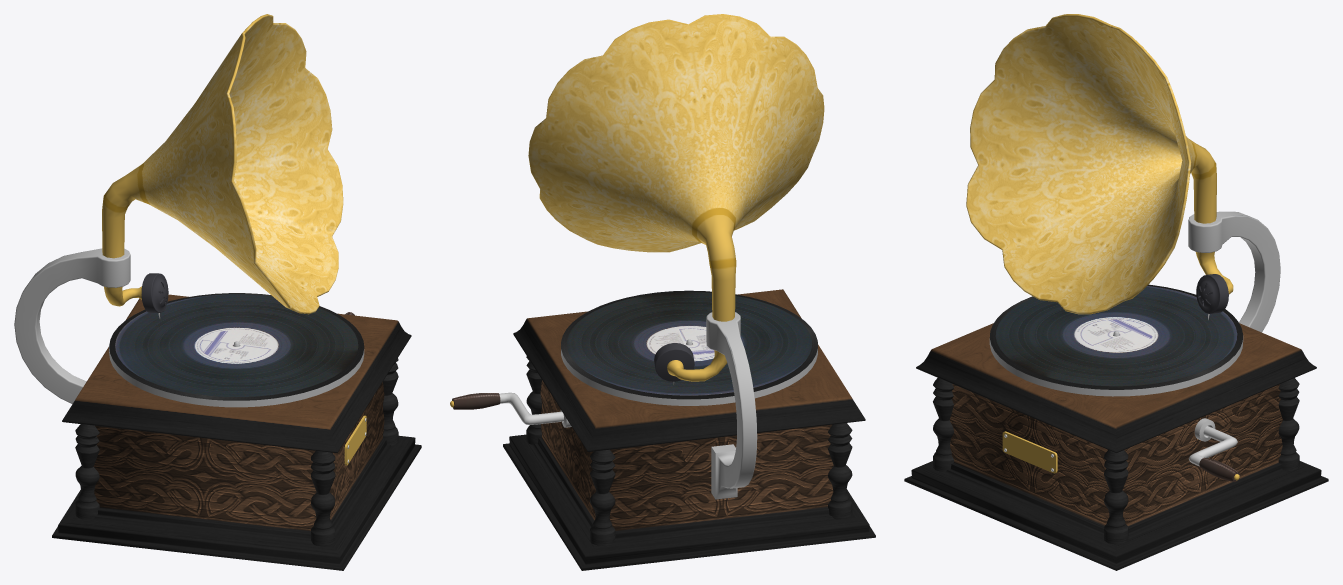
3 renders of one model, left to right at view 1: azimuth 30°, elevation 25°; view 2: azimuth 150°, elevation 25°; view 3: azimuth 270°, elevation 25°, orthographic.
Parts seen in each view (by area): view 1: Gramophone_Material #3_0, object 1, Schallplatte; view 2: Gramophone_Material #3_0, object 1, Schallplatte, Kurbel_Material #3_0; view 3: Gramophone_Material #3_0, object 1, Schallplatte, Kurbel_Material #3_0.
Part boxes in pixels (left/top/right/bottom): Gramophone_Material #3_0: left=14, top=248, right=421, bottom=570; object 1: left=102, top=14, right=343, bottom=318; Schallplatte: left=115, top=294, right=358, bottom=396; Gramophone_Material #3_0: left=503, top=289, right=875, bottom=570; object 1: left=528, top=14, right=824, bottom=384; Schallplatte: left=567, top=292, right=811, bottom=395; Kurbel_Material #3_0: left=450, top=392, right=563, bottom=424; Gramophone_Material #3_0: left=904, top=211, right=1328, bottom=570; object 1: left=966, top=14, right=1233, bottom=319; Schallplatte: left=995, top=286, right=1237, bottom=386; Kurbel_Material #3_0: left=1188, top=426, right=1240, bottom=481.
Bounding box in the file's own units: 0.5621 × 0.6759 × 0.5621.
1 material, 1 textured.
